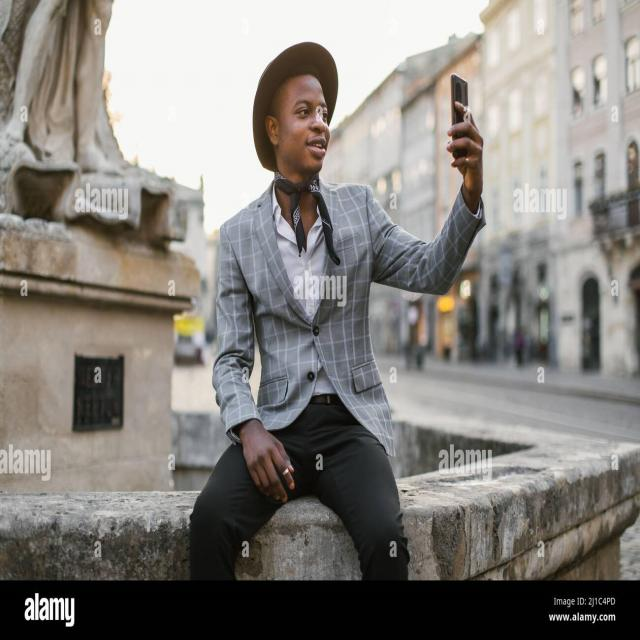hat: (222, 22, 340, 132)
